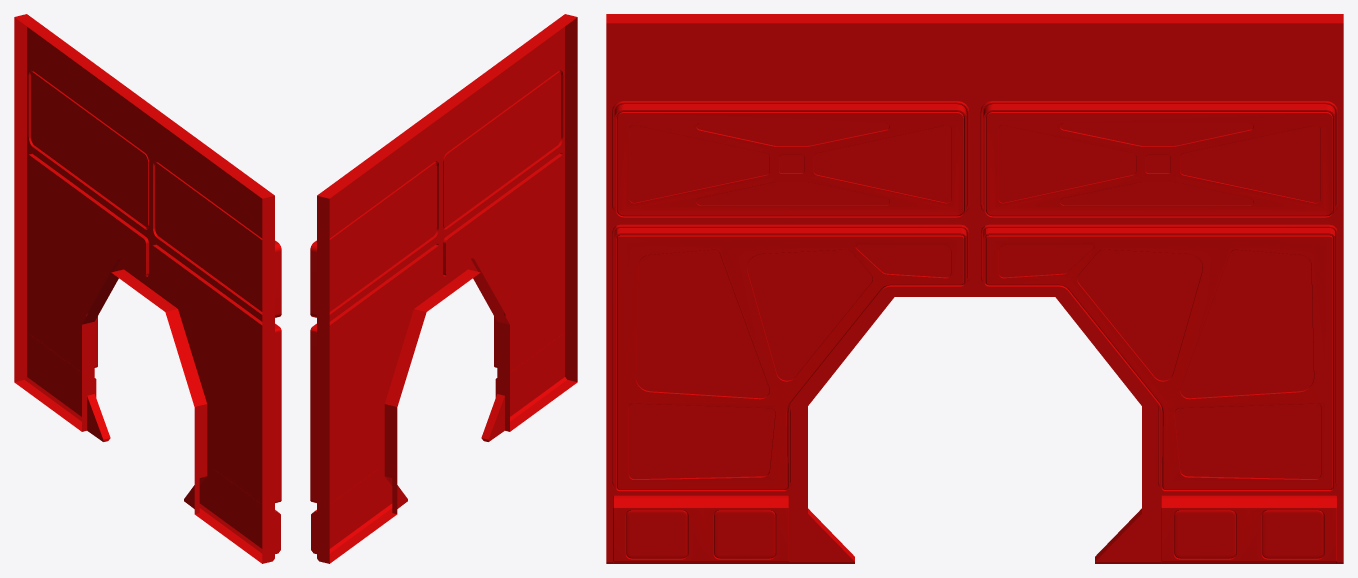
Rendered from Wall_17.fbx.
The picture shows the model from 3 angles, left to right: view 1: azimuth 30°, elevation 25°; view 2: azimuth 150°, elevation 25°; view 3: azimuth 270°, elevation 25°; orthographic projection. The views are drawn at different scales.
Parts seen in each view (by area): view 1: polySurface3; view 2: polySurface3; view 3: polySurface3.
Part boxes in pixels (left/top/right/bottom): polySurface3: left=14, top=14, right=281, bottom=563; polySurface3: left=310, top=14, right=577, bottom=563; polySurface3: left=606, top=14, right=1343, bottom=563.
Bounding box in the file's own units: 47.71 × 751 × 926.
